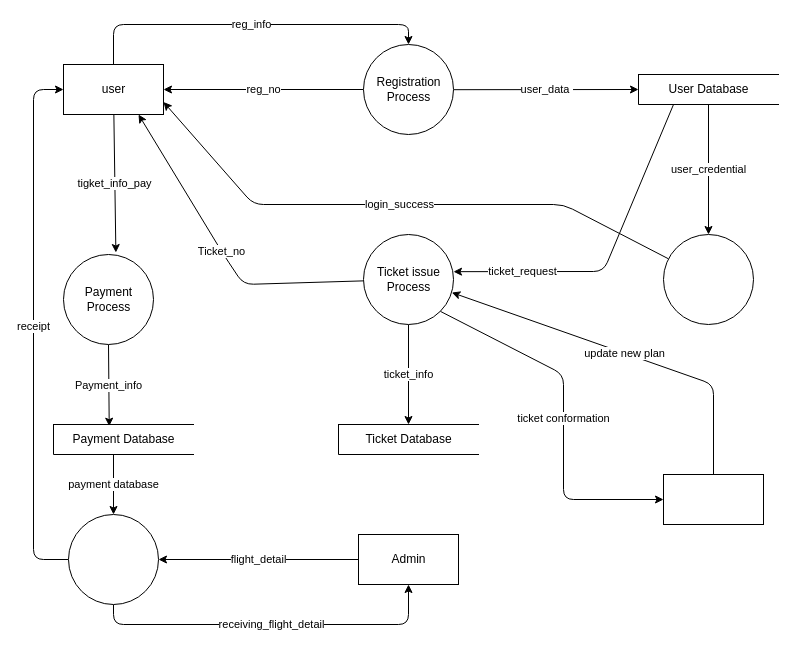
The diagram is 796 pixels wide and 650 high, and some of its shapes have lost their labels. Each missing label, with the box of its shape:
Airline: (662, 474, 764, 524)
Receipt Generation Process: (68, 514, 158, 604)
Verification Process: (662, 234, 754, 324)
